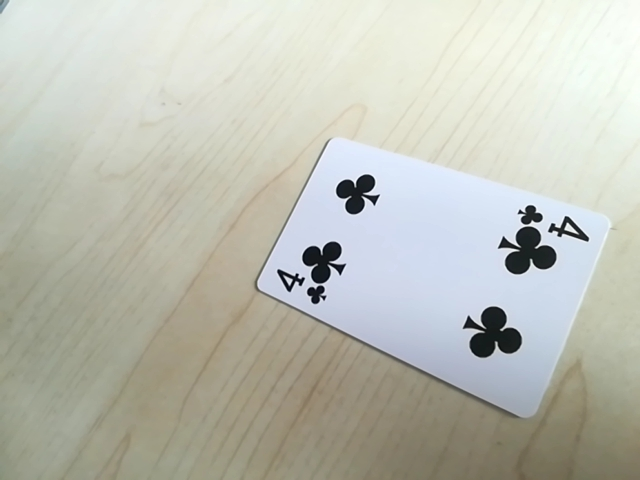mh 4: (516, 203, 591, 242), (270, 271, 330, 308)
